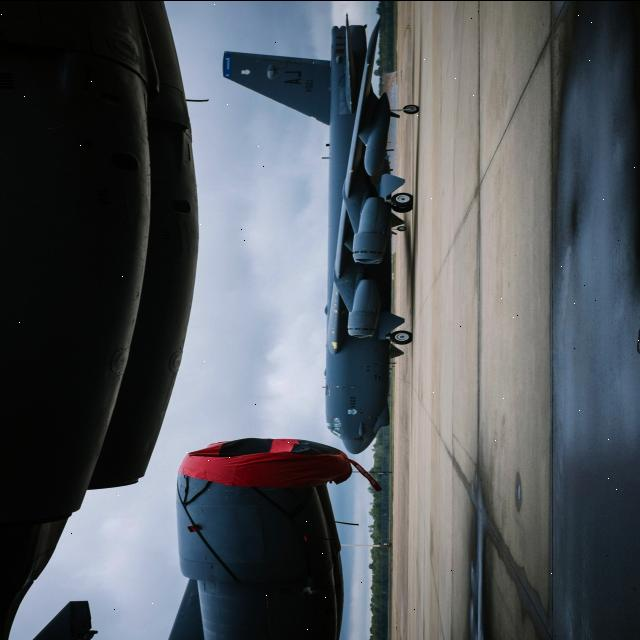B52: (190, 4, 433, 464)
